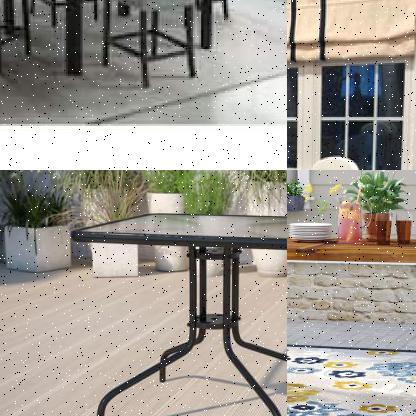table: (63, 207, 286, 415), (287, 225, 415, 415), (0, 0, 222, 82)
